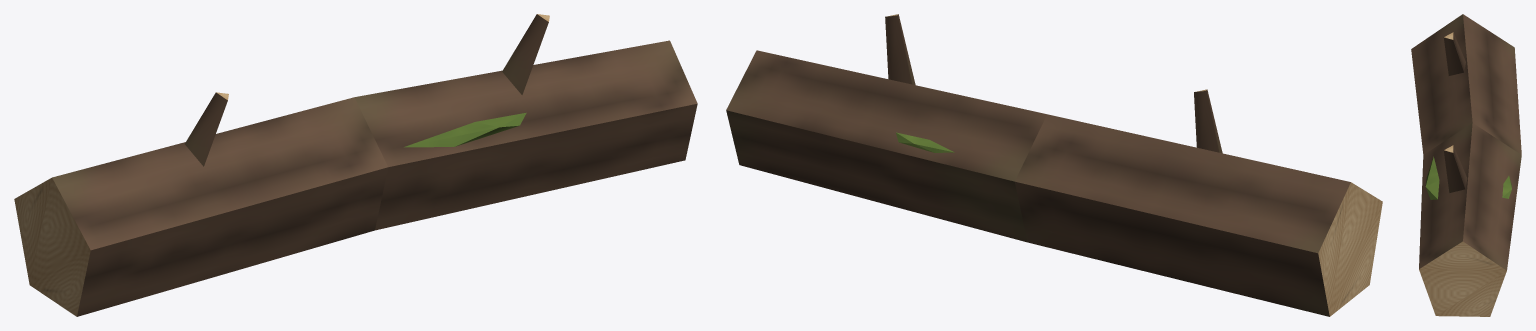
Rendered from SM_FallenLog01_LOD1.fbx.
3 renders of one model, left to right at view 1: azimuth 30°, elevation 25°; view 2: azimuth 150°, elevation 25°; view 3: azimuth 270°, elevation 25°, orthographic. The views are drawn at different scales.
Visible parts, largest first — view 1: SM_FallenLog01_LOD1; view 2: SM_FallenLog01_LOD1; view 3: SM_FallenLog01_LOD1.
Part boxes in pixels (<box>): SM_FallenLog01_LOD1: <box>14,14,697,316</box>; SM_FallenLog01_LOD1: <box>726,14,1382,316</box>; SM_FallenLog01_LOD1: <box>1411,14,1521,316</box>.
Size of the model in its own units: 8.06 by 2.18 by 1.73.
1 material, 1 textured.
